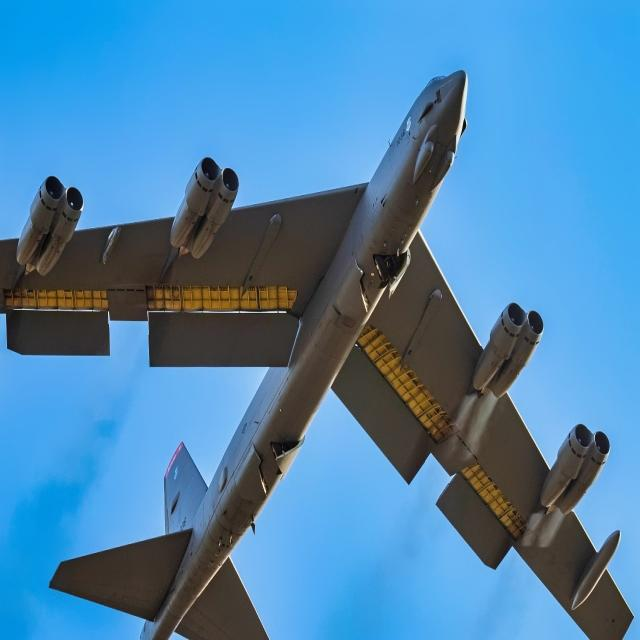B52: (2, 17, 640, 637)
